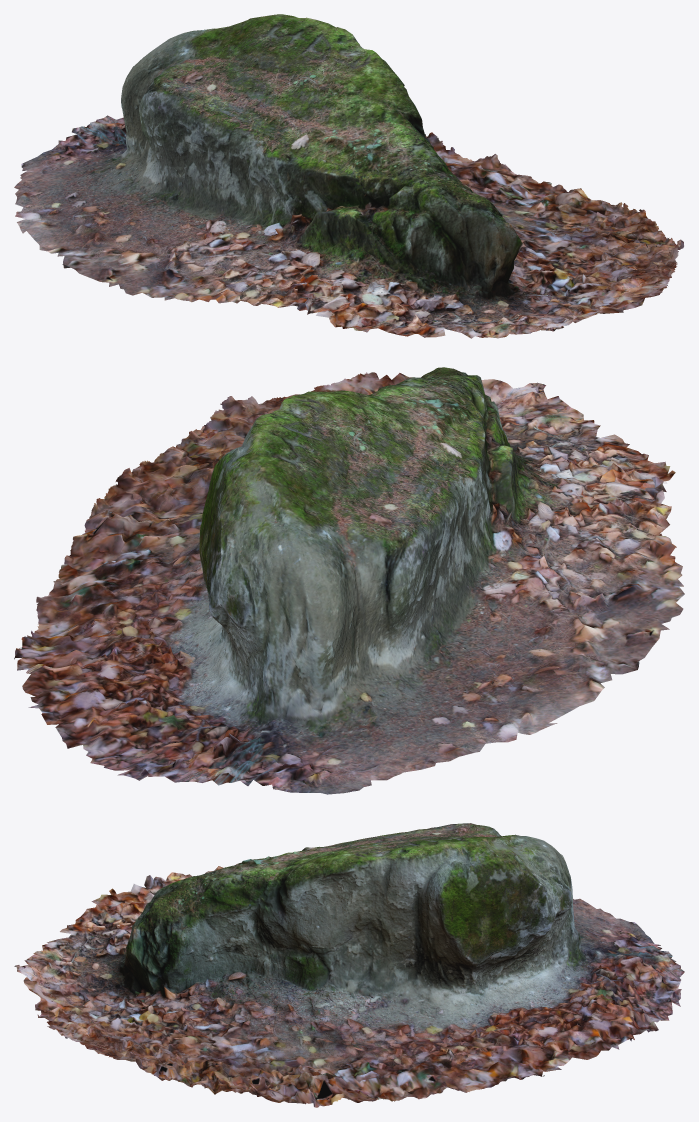
File: rock_scan_003.glb
3 renders of one model, top to bottom at view 1: azimuth 30°, elevation 25°; view 2: azimuth 150°, elevation 25°; view 3: azimuth 270°, elevation 25°, orthographic. The views are drawn at different scales.
Visible parts, largest first — view 1: Object_2; view 2: Object_2; view 3: Object_2.
Part boxes in pixels (x1=…): Object_2: x1=14, y1=14, x2=683, y2=338; Object_2: x1=14, y1=367, x2=684, y2=794; Object_2: x1=14, y1=823, x2=684, y2=1107.
Size of the model in its own units: 20.77 by 7.55 by 26.55.
1 material, 1 textured.
